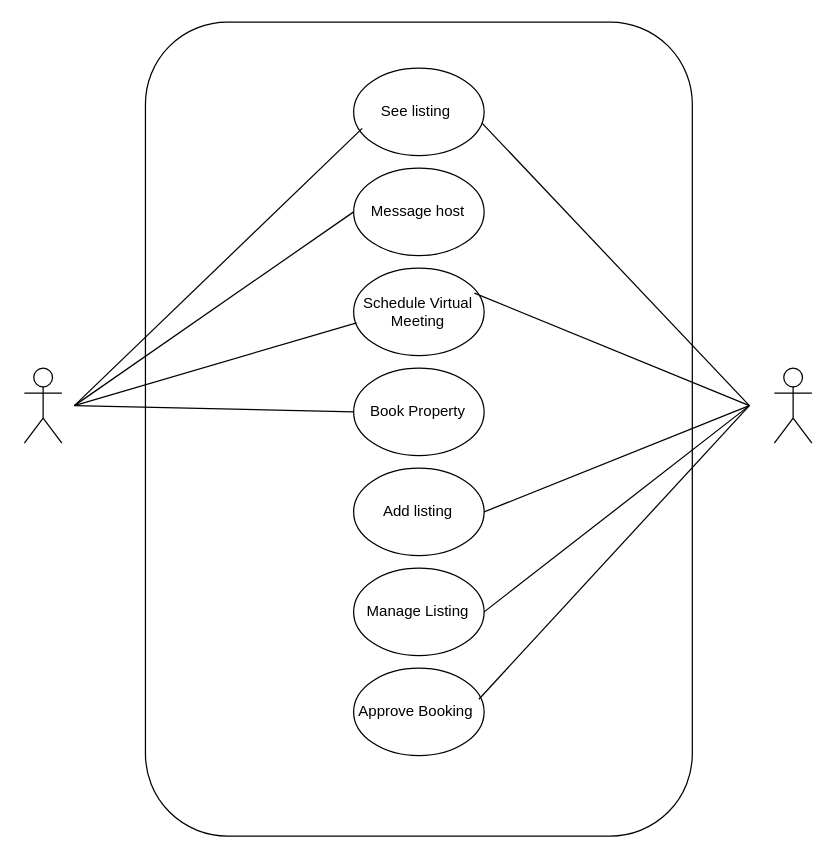
The diagram is 834 pixels wide and 859 high, and some of its shapes have lost their labels. The centre of each missing label's shape, as x and y in pixels:
Finder: the point at 42,405
Lister: the point at 792,405
